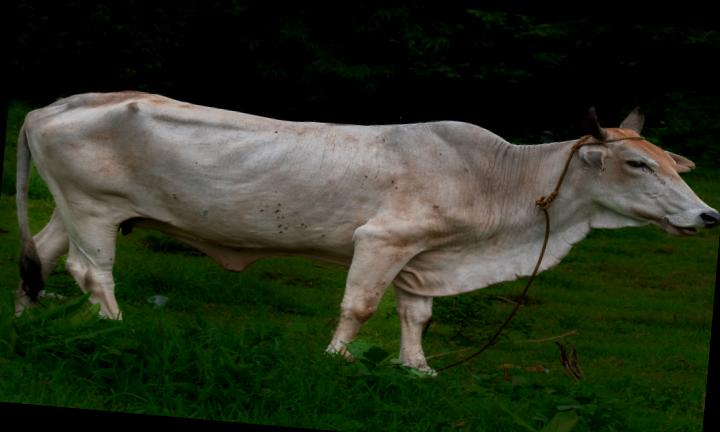Brahman: (17, 91, 720, 369)
